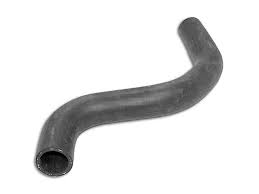radiator_hose: (35, 17, 223, 177)
